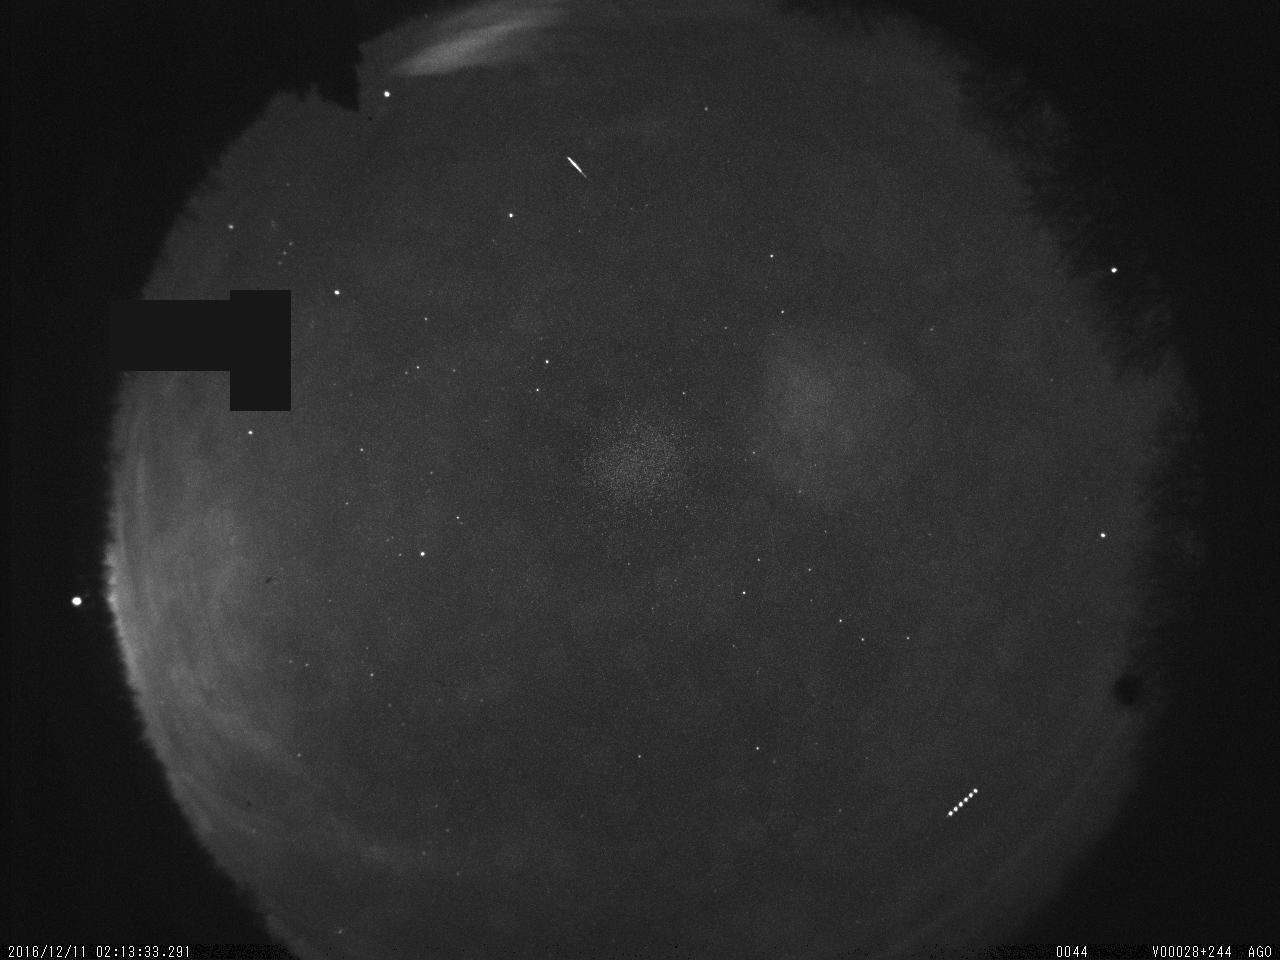meteor: (562, 151, 597, 186)
satelite: (941, 779, 981, 827)
